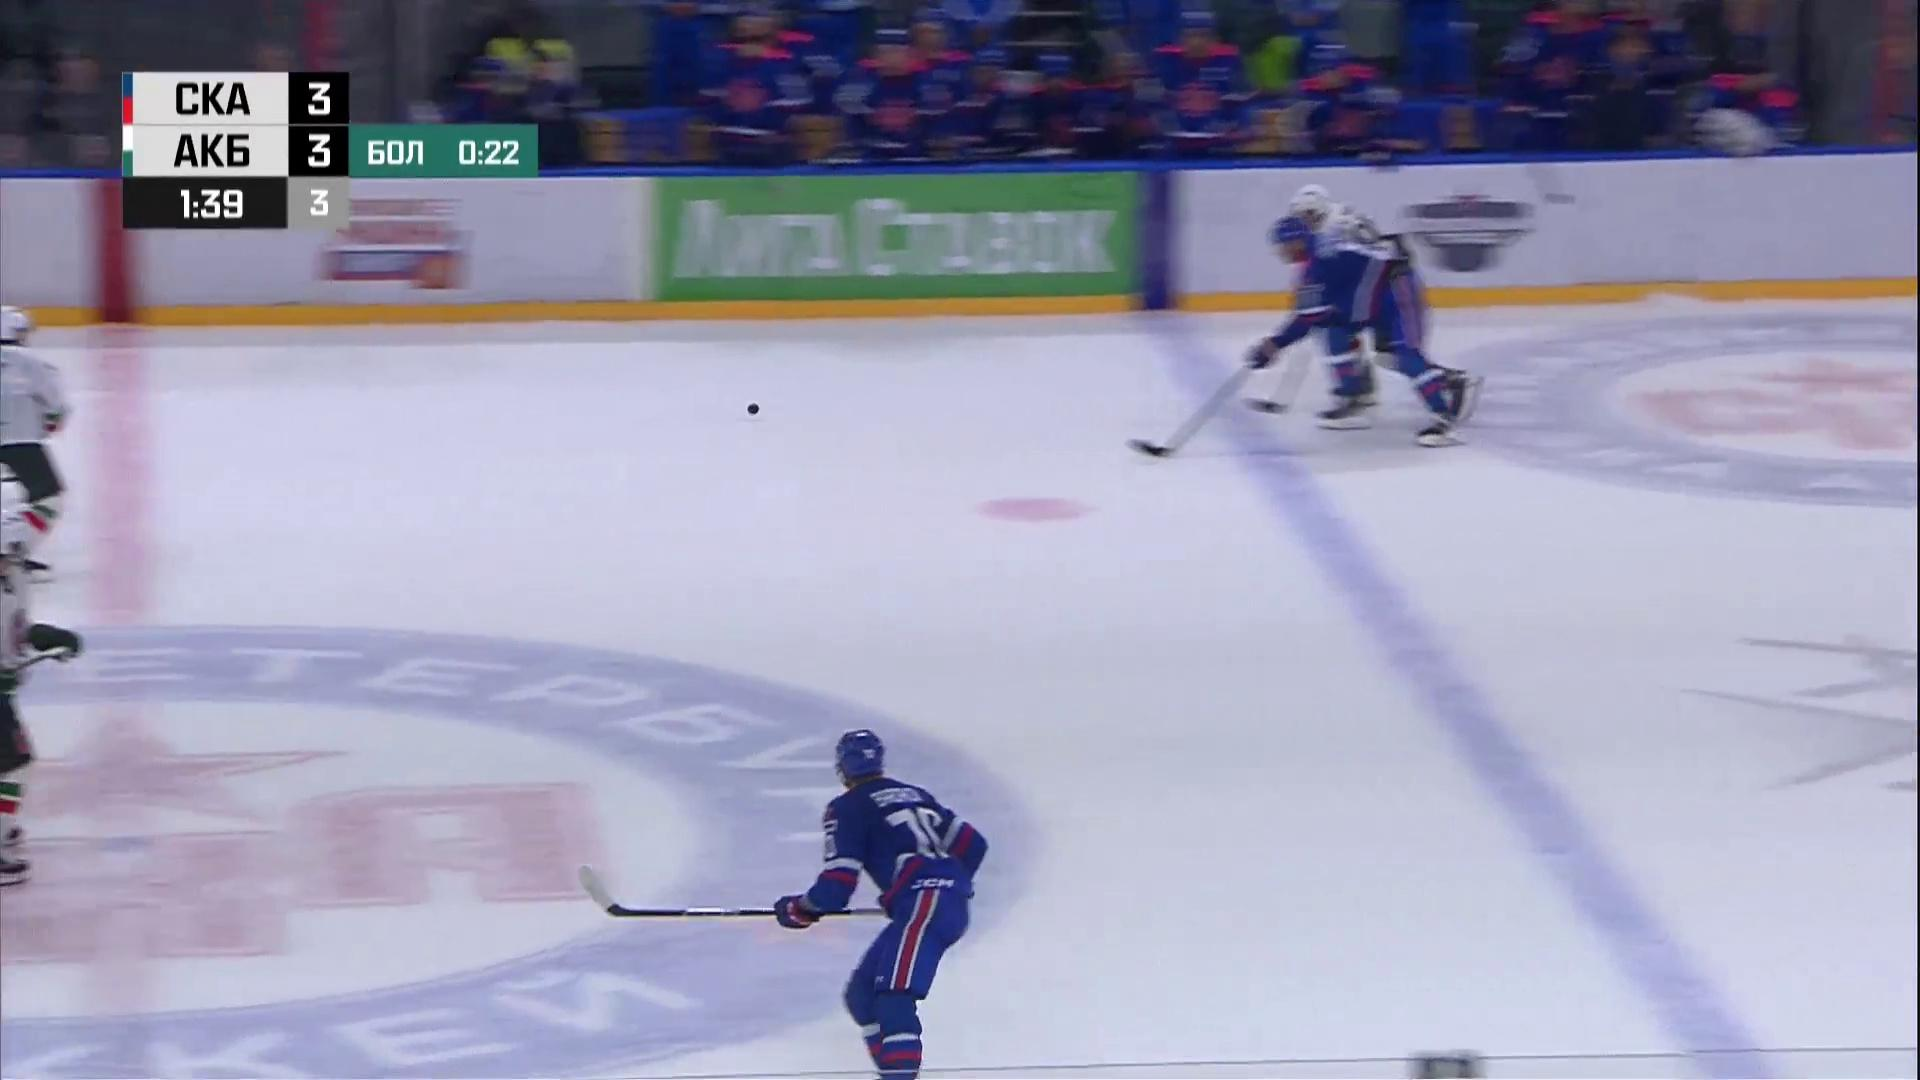ball: (748, 404, 760, 415)
